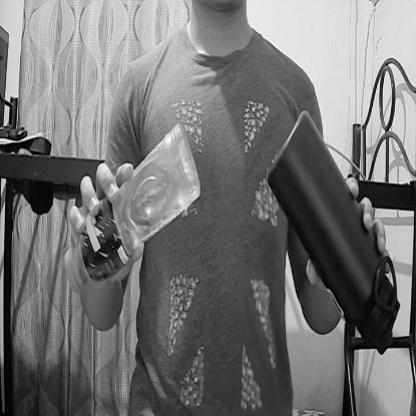Plastic Bottle: (50, 120, 202, 301)
